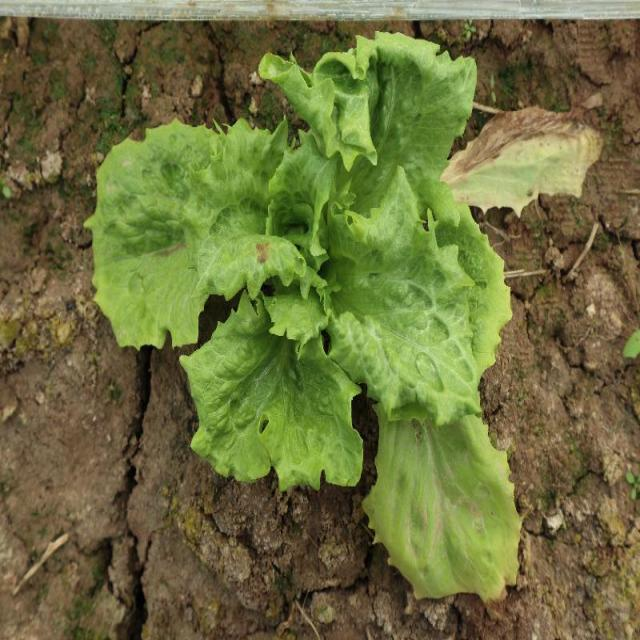crop: (96, 29, 524, 603)
